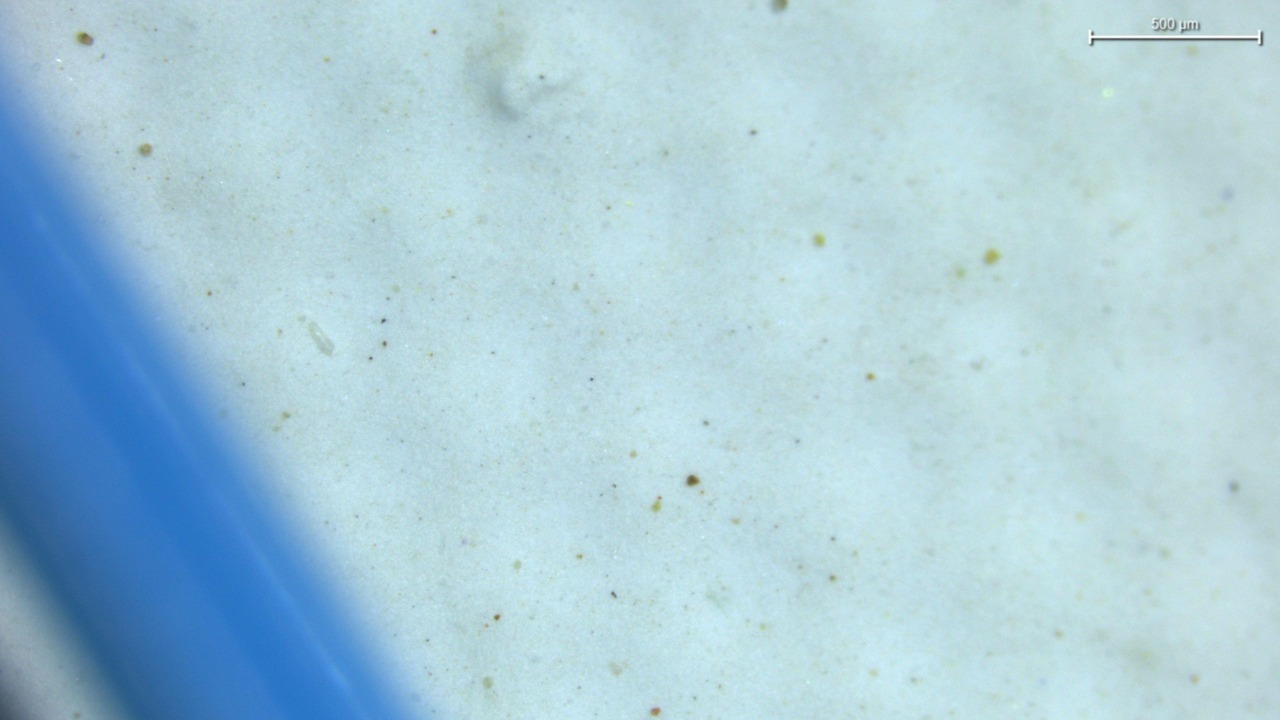microplastic_fragment: (306, 321, 334, 355)
